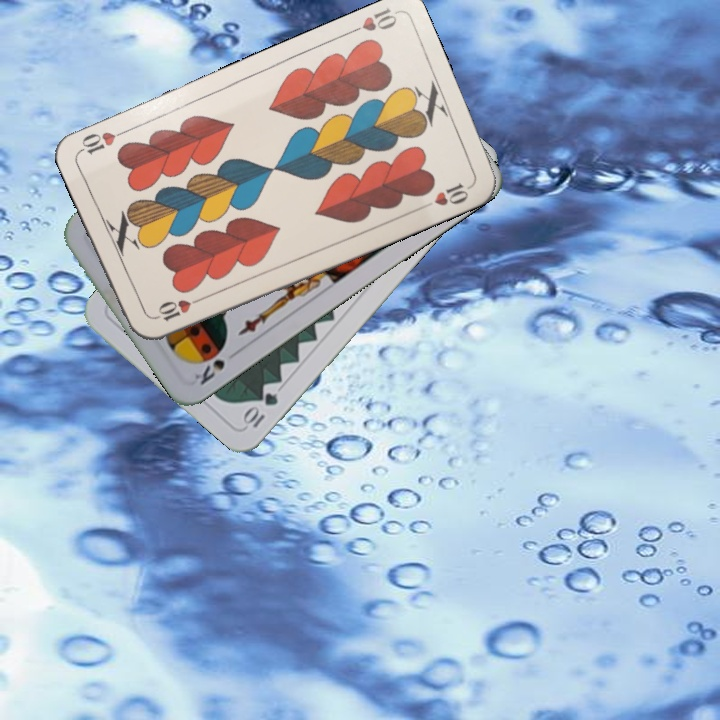G10: (238, 388, 281, 431)
H10: (343, 4, 400, 38), (149, 293, 206, 324)
SK: (190, 346, 242, 388)
